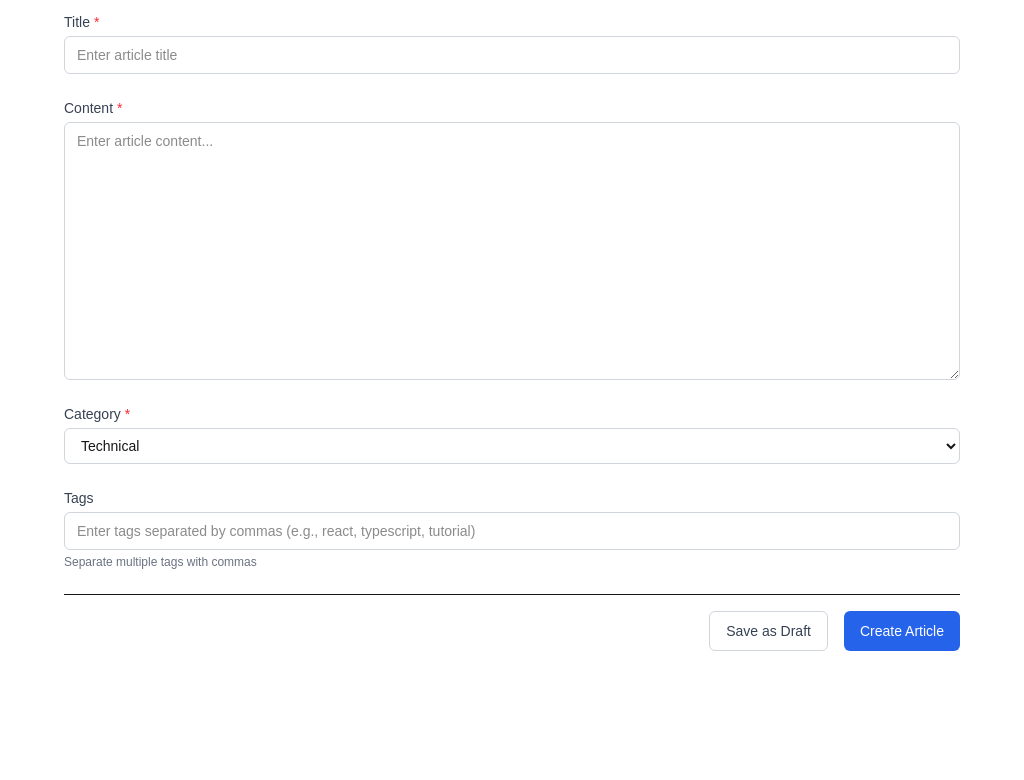
Test: NewCreation › saves article as draft
# Fill in the form
Type "Draft Article" into the field labelled "Title*".
click(512, 55); type("Draft Article")  # box [64,36,960,74]
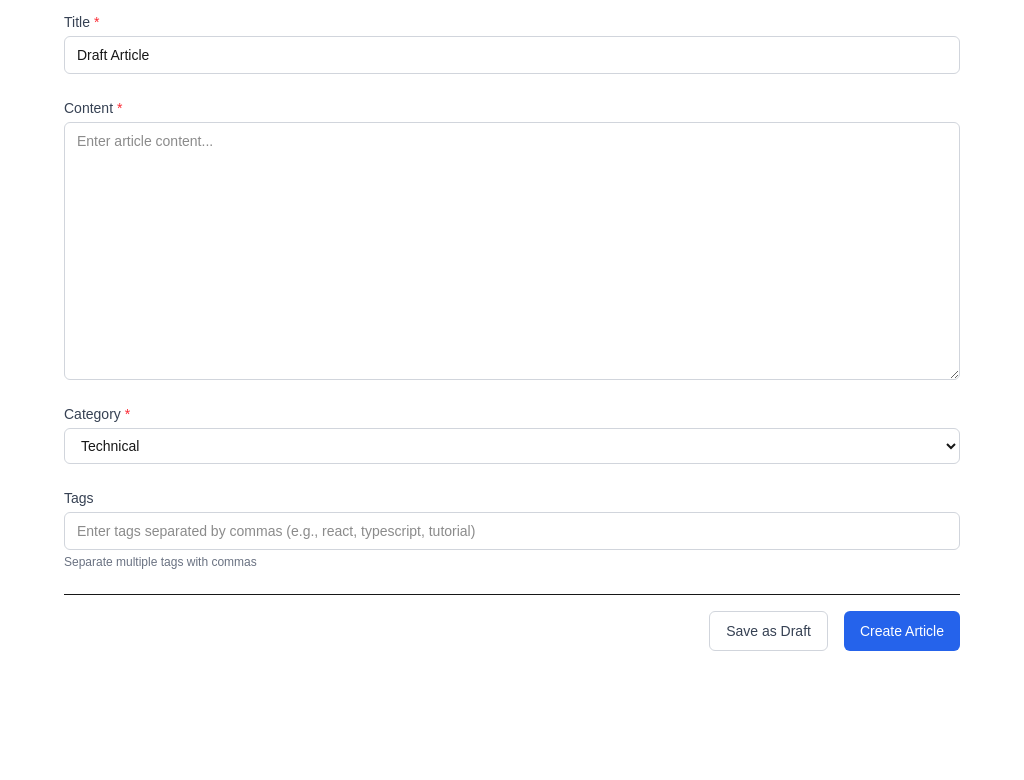
Type "This is draft content." into the text box labelled "Content*".
click(512, 251); type("This is draft content.")  # box [64,122,960,380]
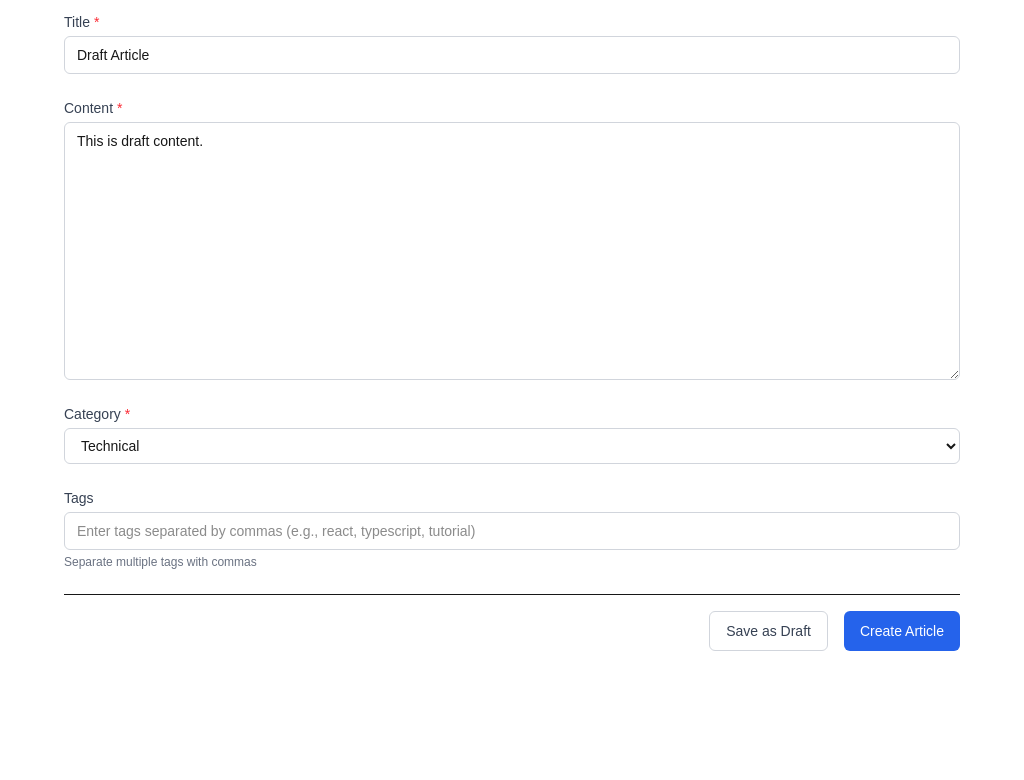
# Save as draft
Click the button "Save as Draft".
click(768, 631)  # box [709,611,828,651]
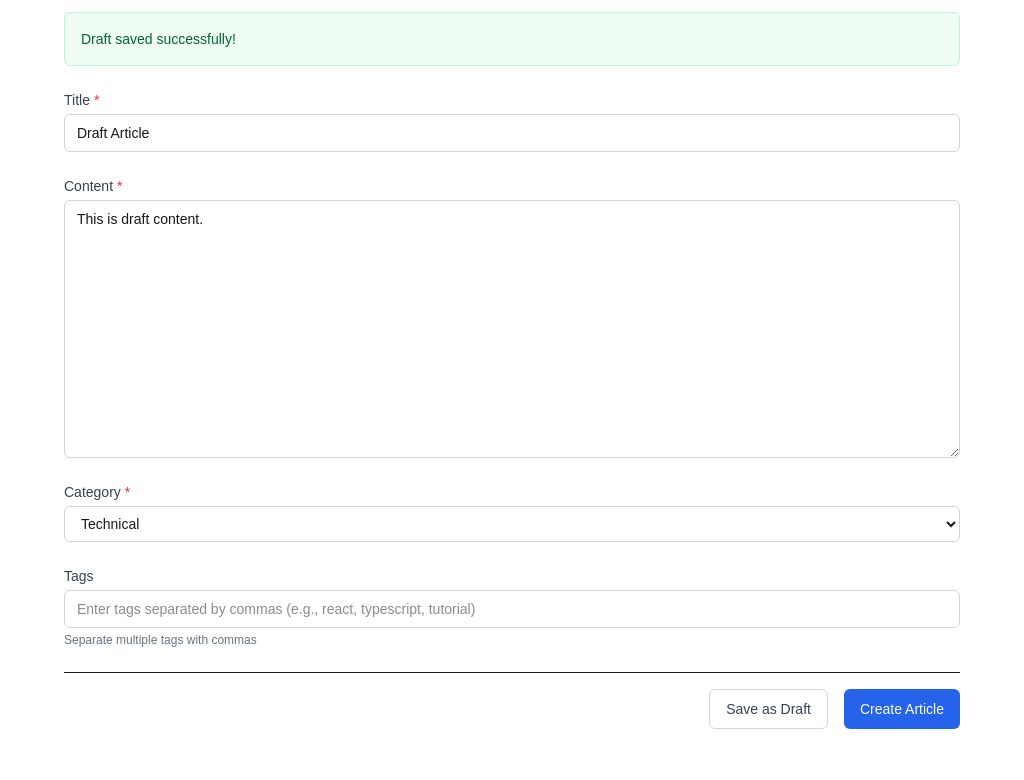
expect the text "Draft saved successfully!" is shown: met, box [81,31,236,47]
